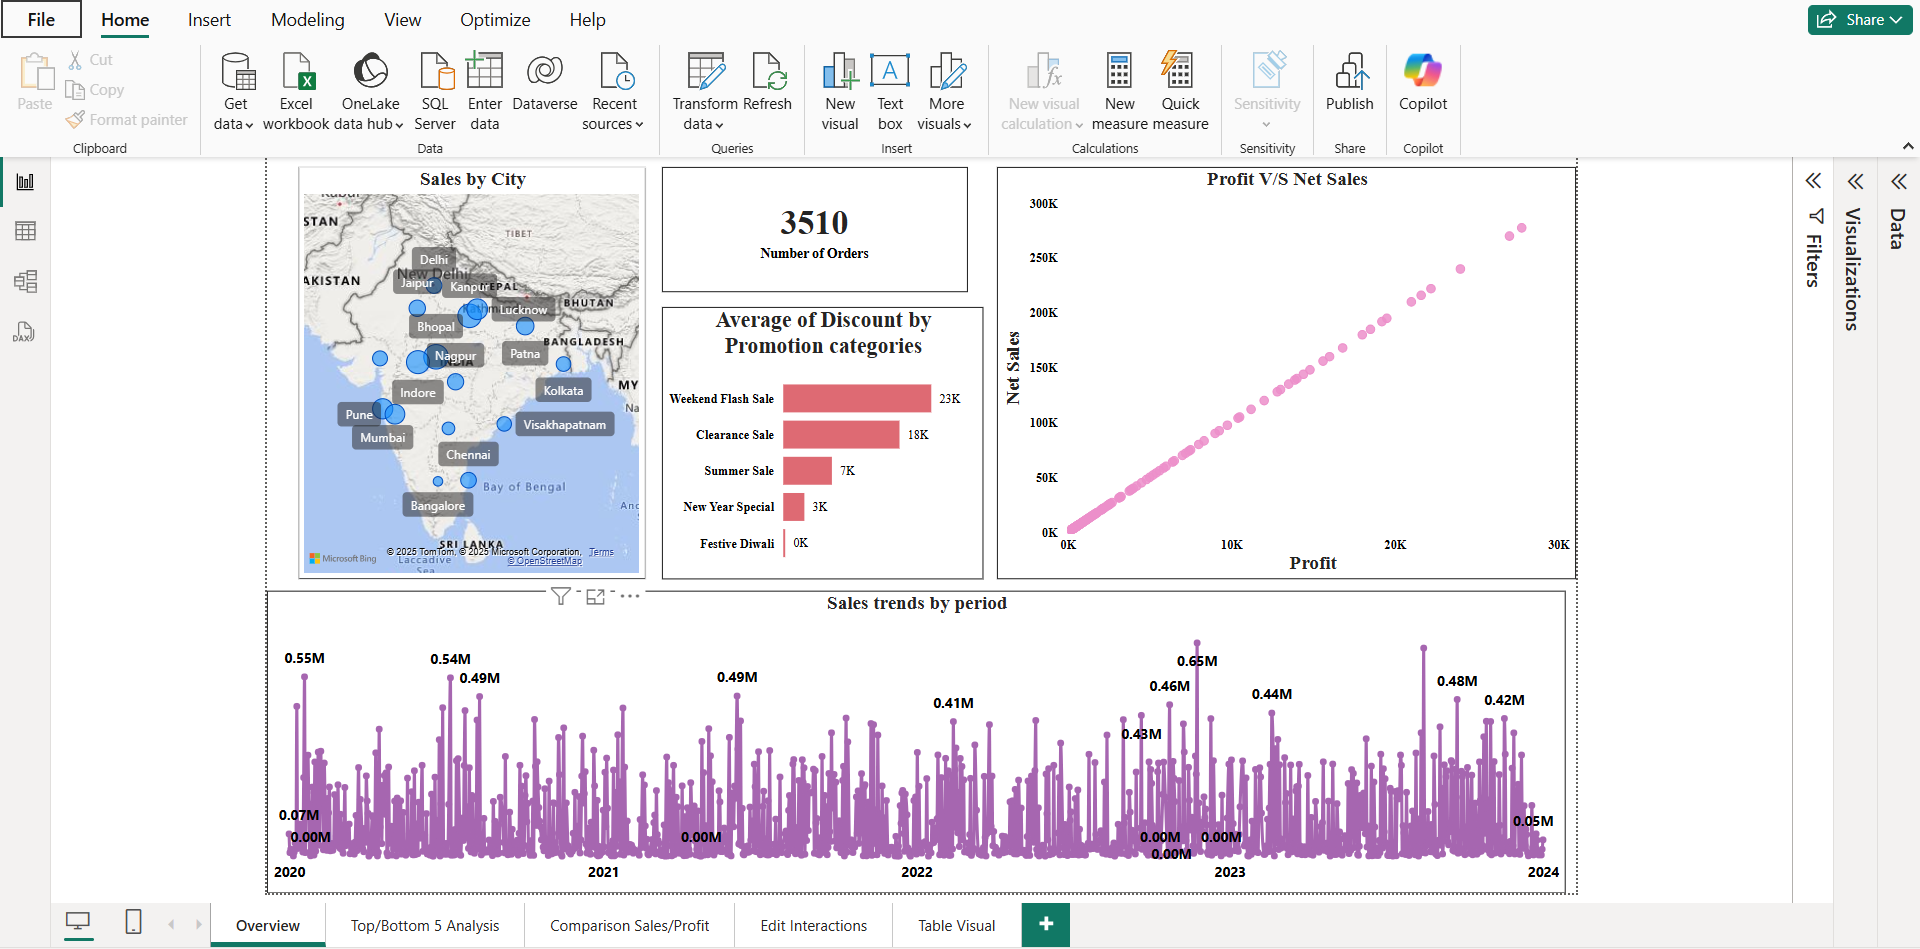

This screenshot's page, from the dashboard's own definition file:
{"tool":"powerbi","page":{"name":"Overview","canvas":[1280,720],"ordinal":0},"visuals":[{"type":"lineChart","title":" Sales trends by period","fields":{"Y":["Sum(Fact Table.Net Sales  )"],"Category":["Fact Table.Date (dd/mm/yyyy).Variation.Date Hierarchy.Year"]},"box":[0,424,1270.7,296.4],"z":0},{"type":"scatterChart","title":"Profit V/S Net Sales  ","fields":{"X":["Fact Table.Profit"],"Y":["Fact Table.Net Sales  "]},"box":[713.6,9.6,566.7,403.4],"z":1},{"type":"barChart","title":"Average of Discount by Promotion categories","fields":{"Y":["Avg(Fact Table.Discount)"],"Category":["Dim Promotion.Promotion Name"]},"box":[387,146.8,314.2,266.2],"z":2},{"type":"map","title":"Sales by City","fields":{"Category":["Dim Customers.City"],"Size":["Sum(Fact Table.Net Sales  )"]},"box":[30.2,9.6,340.3,403.4],"z":3},{"type":"card","fields":{"Values":["Count(Fact Table.Order ID)"]},"box":[387,9.6,299.1,122.1],"z":4}]}

Visuals, with their boxes on the page's 1280x720 design canvas (x1, y1, x2, y2). These are canvas units, not pixel positions in the 1920x949 screenshot, which may show the page scaled, cropped or inside an application window:
" Sales trends by period" lineChart: bbox=[0, 424, 1271, 720]
"Profit V/S Net Sales  " scatterChart: bbox=[714, 10, 1280, 413]
"Average of Discount by Promotion categories" barChart: bbox=[387, 147, 701, 413]
"Sales by City" map: bbox=[30, 10, 370, 413]
card - Count(Fact Table.Order ID): bbox=[387, 10, 686, 132]
